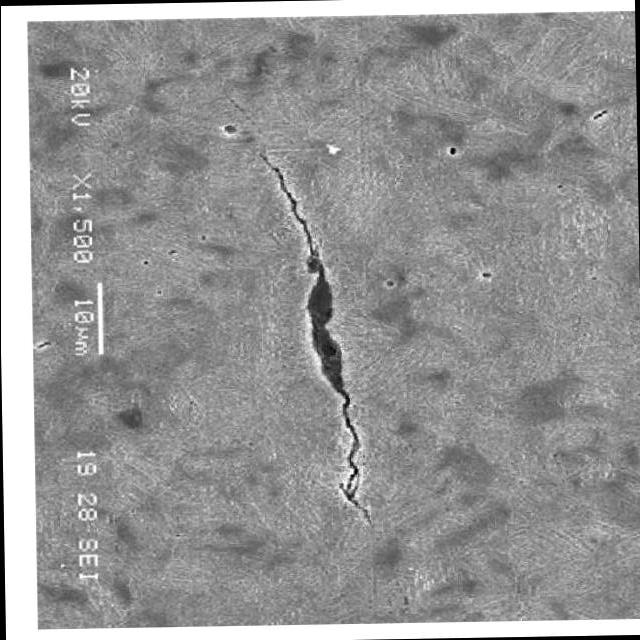defect: (245, 139, 374, 535)
